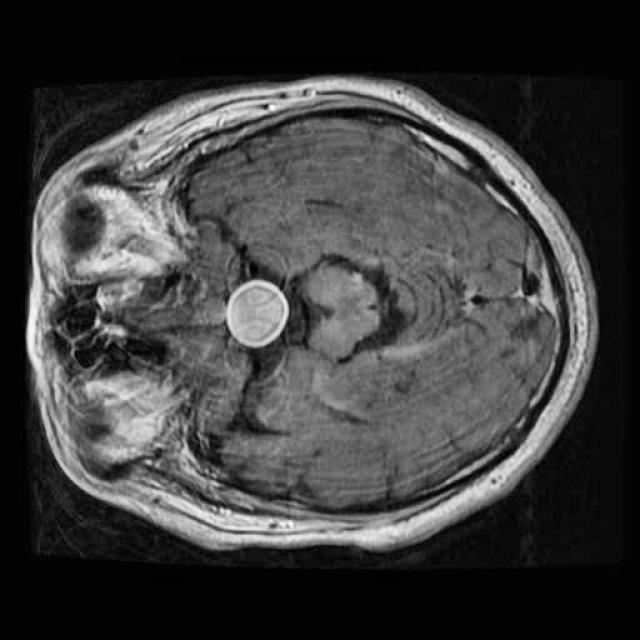Tumor: (224, 268, 292, 359)
